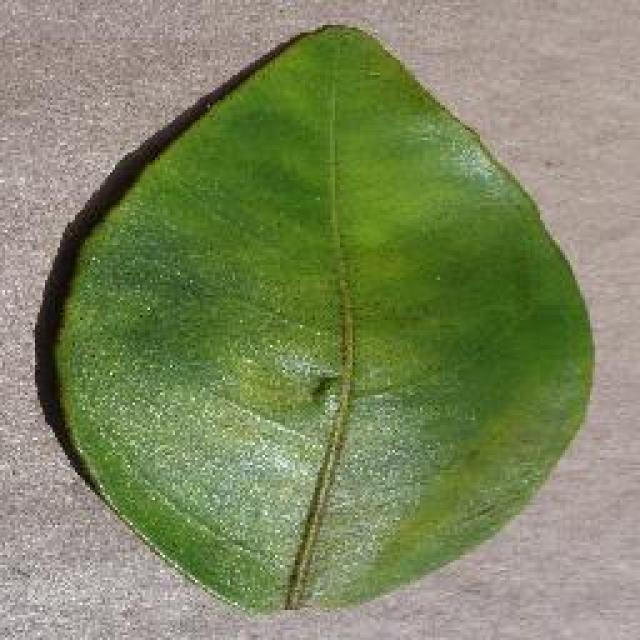Orange_Haunglongbing_Citrus_greening: (115, 97, 543, 554)
